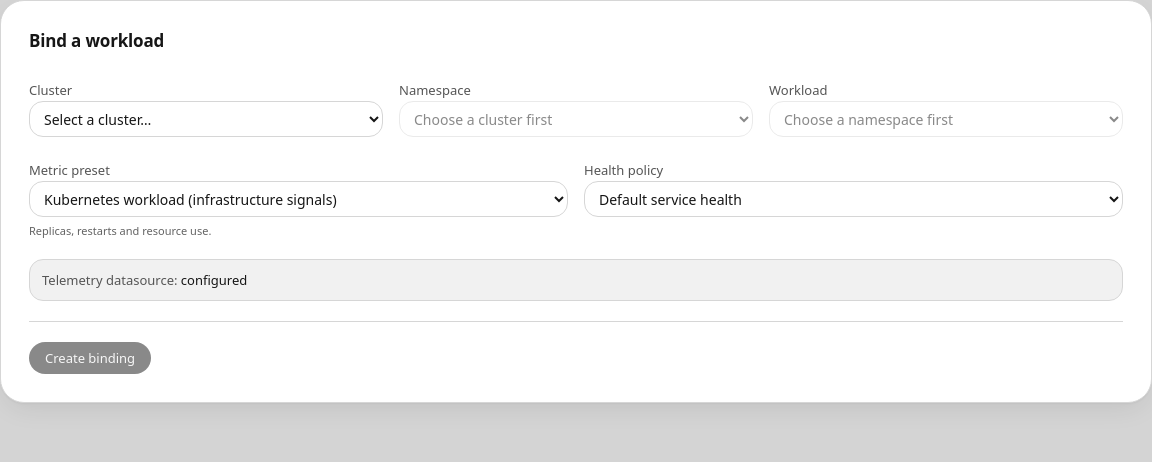
binding form › reports an unresolved workload as unresolved, not as a failure
Select "Cluster A" in the dropdown labelled "Cluster": (206, 119) [29,101,383,137]
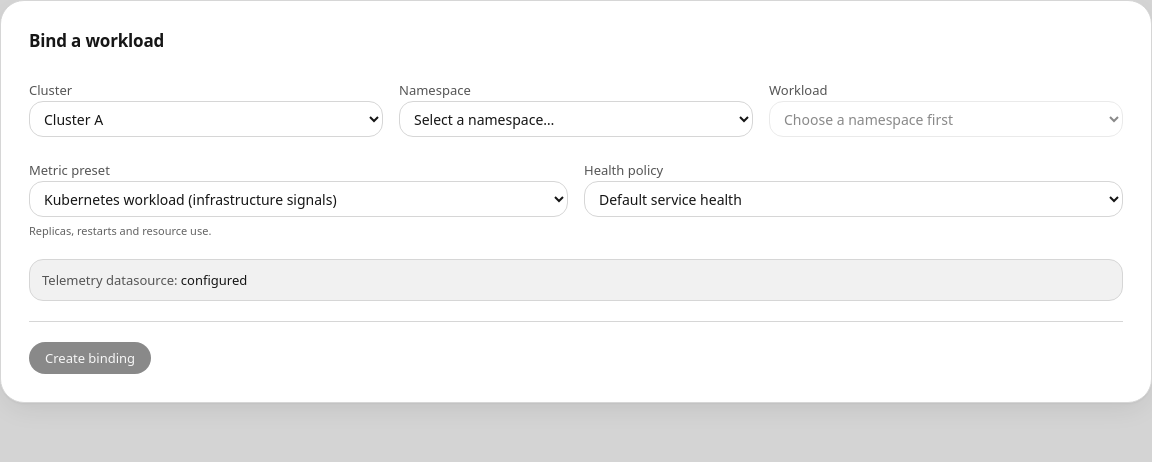
Check: the dropdown labelled "Namespace" is enabled
Select "hermes-dev" in the dropdown labelled "Namespace": (576, 119) [399,101,753,137]
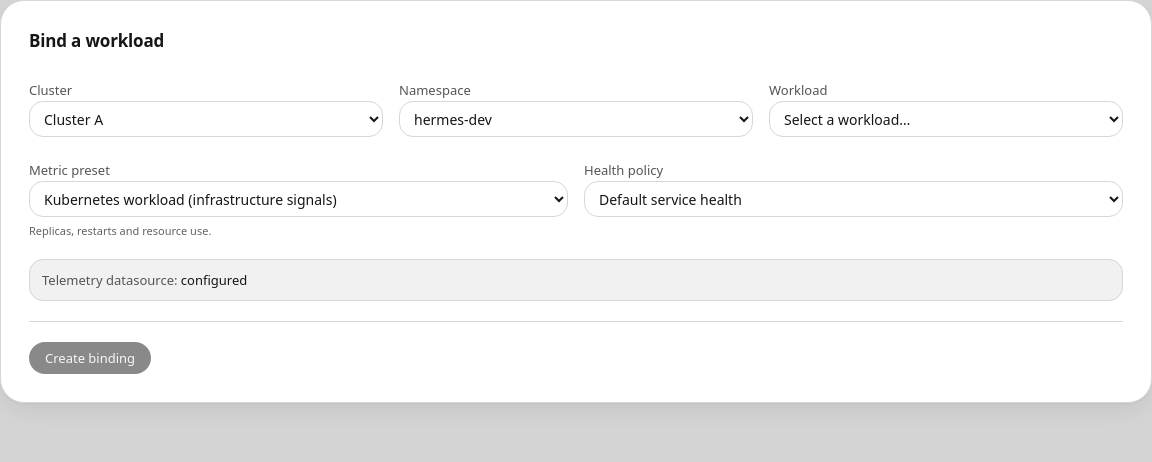
Check: the dropdown labelled "Workload" is enabled
Select "Deployment · hermes-api" in the dropdown labelled "Workload": (946, 119) [769,101,1123,137]
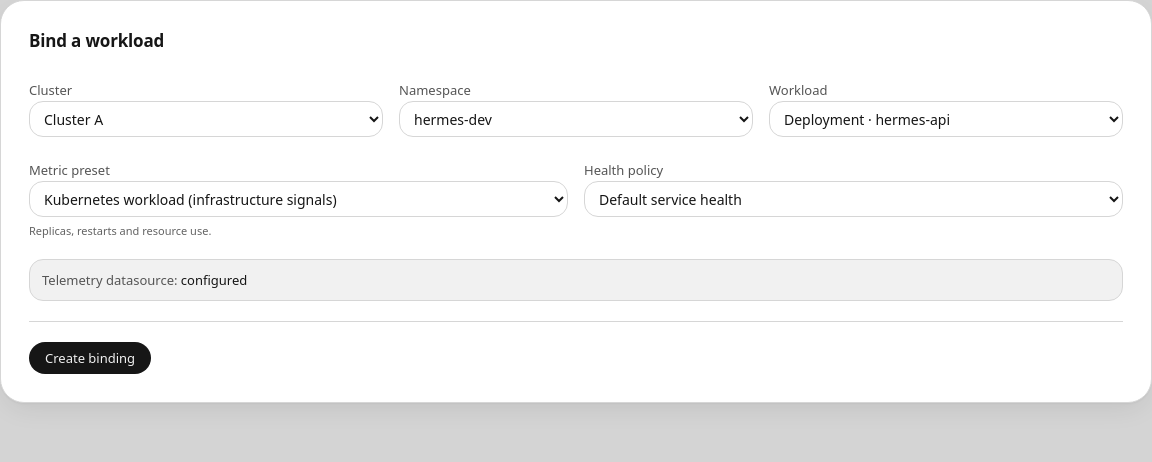
Click the button "Create binding": (90, 358) [29,342,151,374]
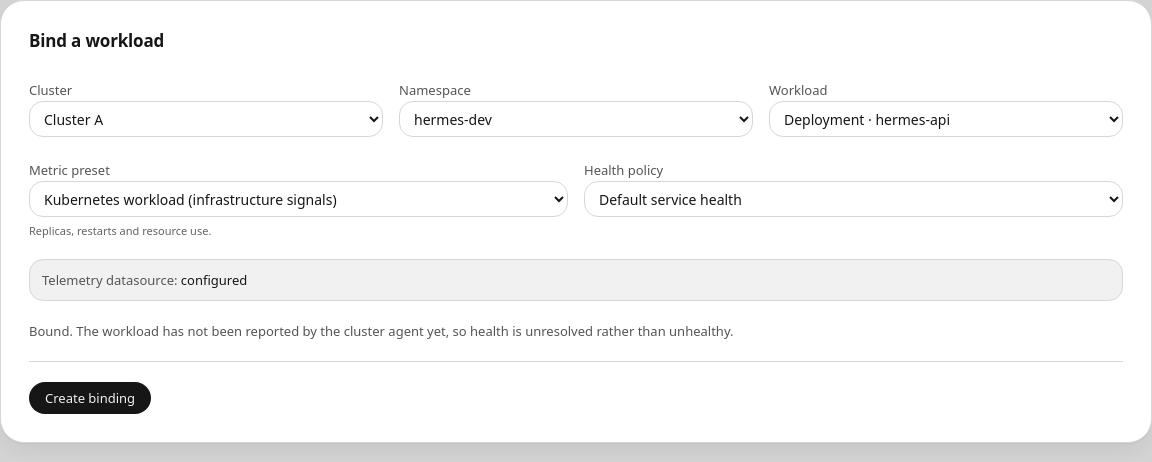
Check: the message with test id "save-notice" shows "unresolved rather than unhealthy", box [29,322,734,340]
